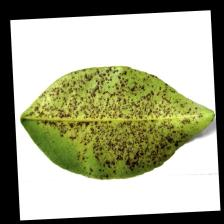canker: (77, 89, 172, 166)
